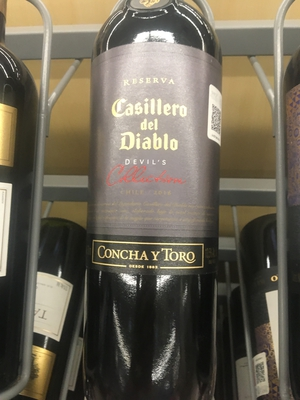casillero del diablo devils collection rojo: (88, 8, 243, 393)
